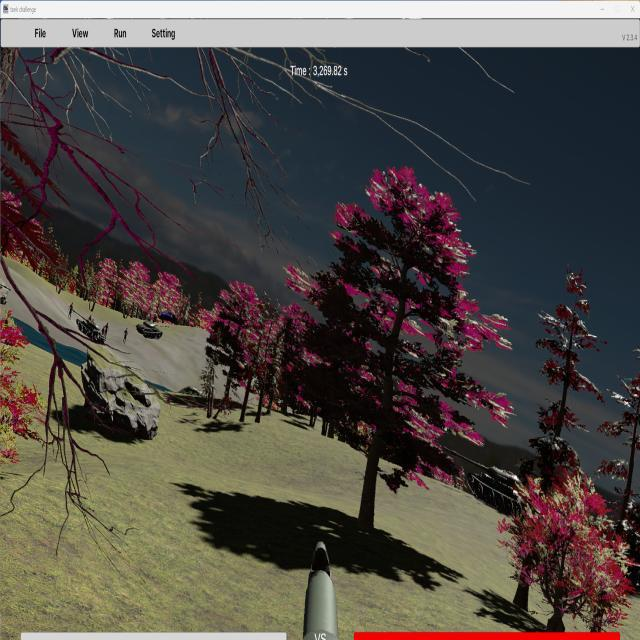Tank: (442, 444, 527, 518), (70, 308, 106, 345), (136, 318, 168, 340)
